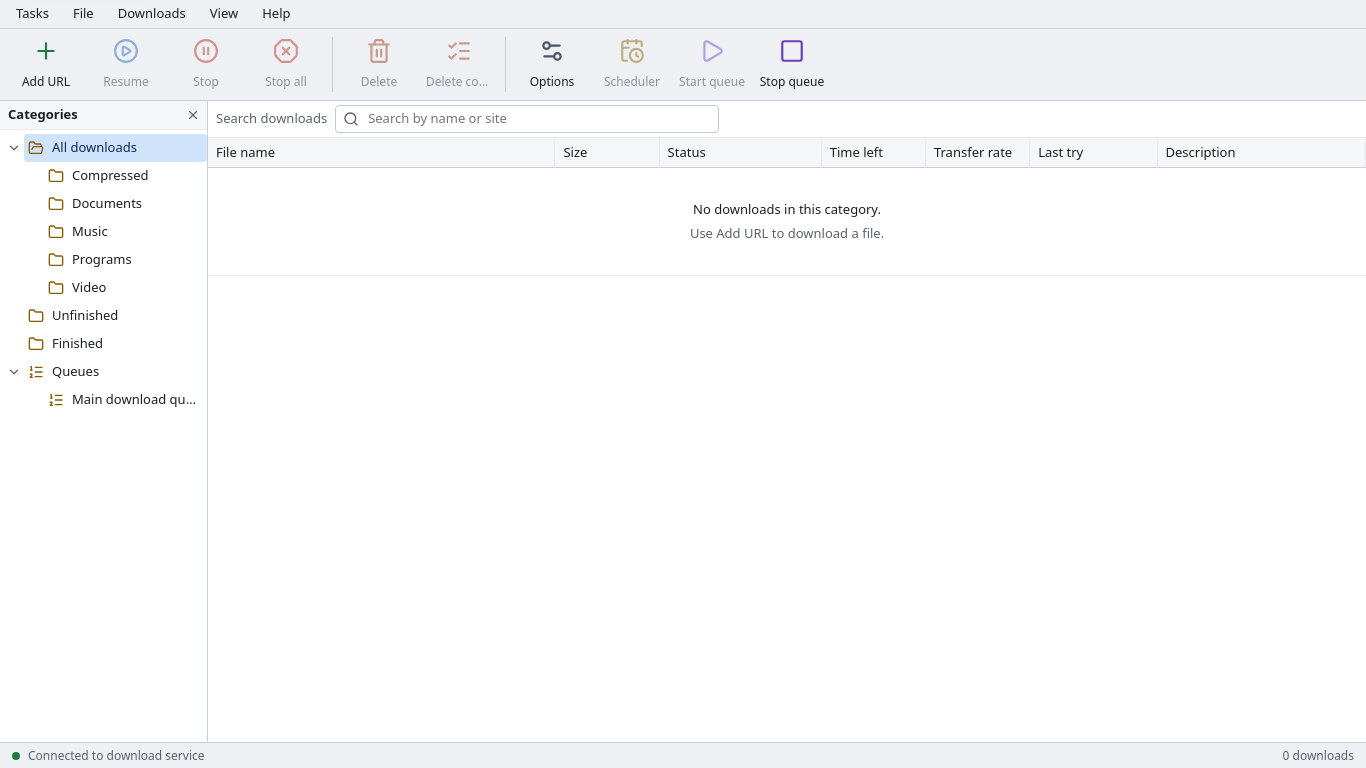
it: close behaviour › shows the desktop setting and persists a change through the shell
Click the button "Options": (552, 64) top-left (514, 33), bottom-right (590, 96)
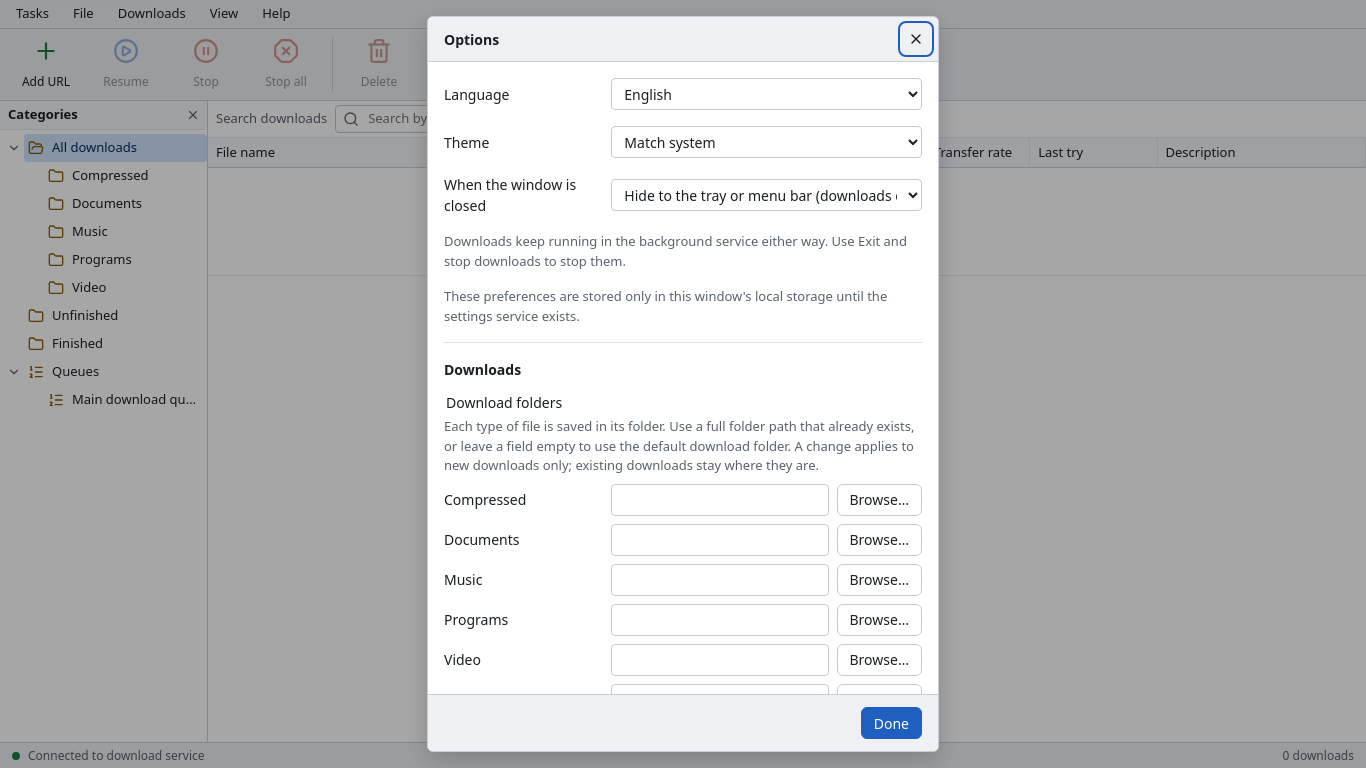
expect the dropdown labelled "When the window is closed" shows "Hide to the tray or menu bar (downloads continue)": met
Select "Close the window (downloads continue)" in the dropdown labelled "When the window is closed": (767, 195) top-left (611, 179), bottom-right (922, 211)
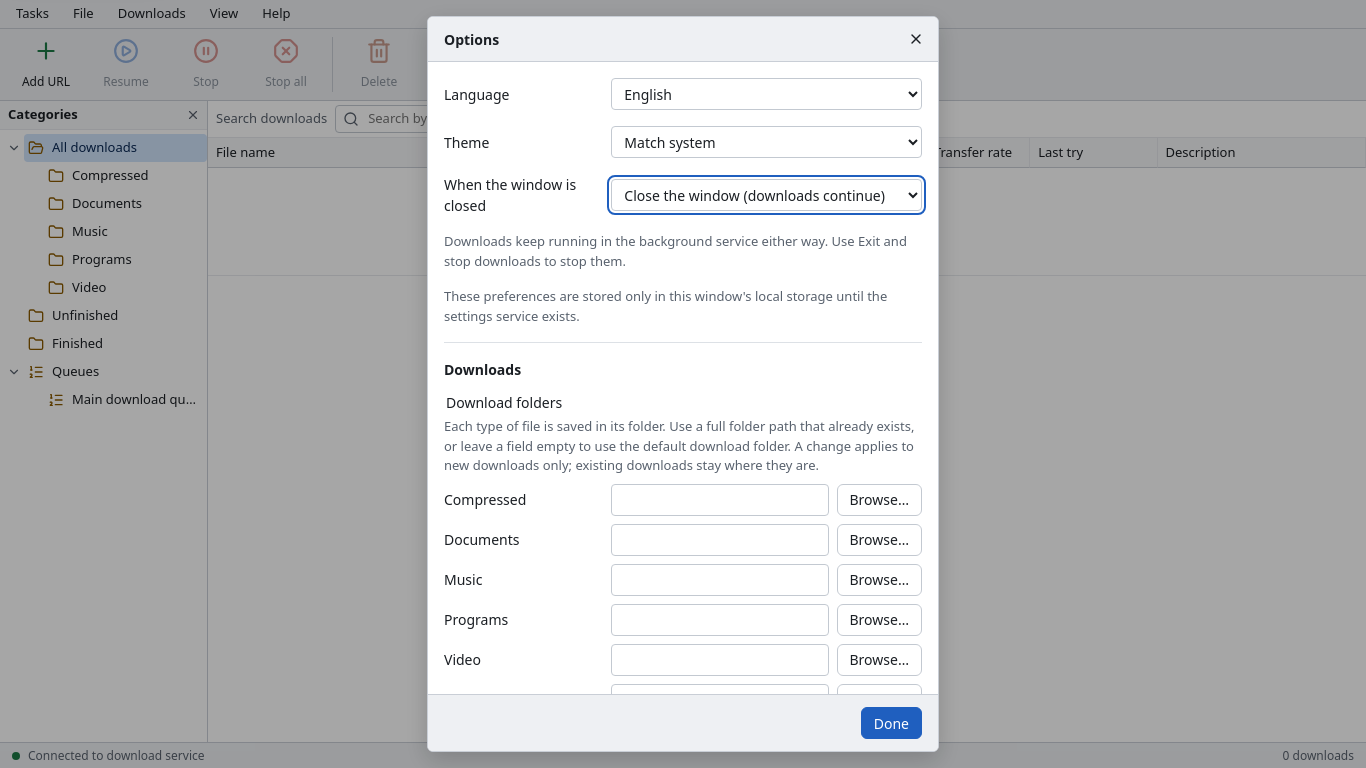
Press Escape
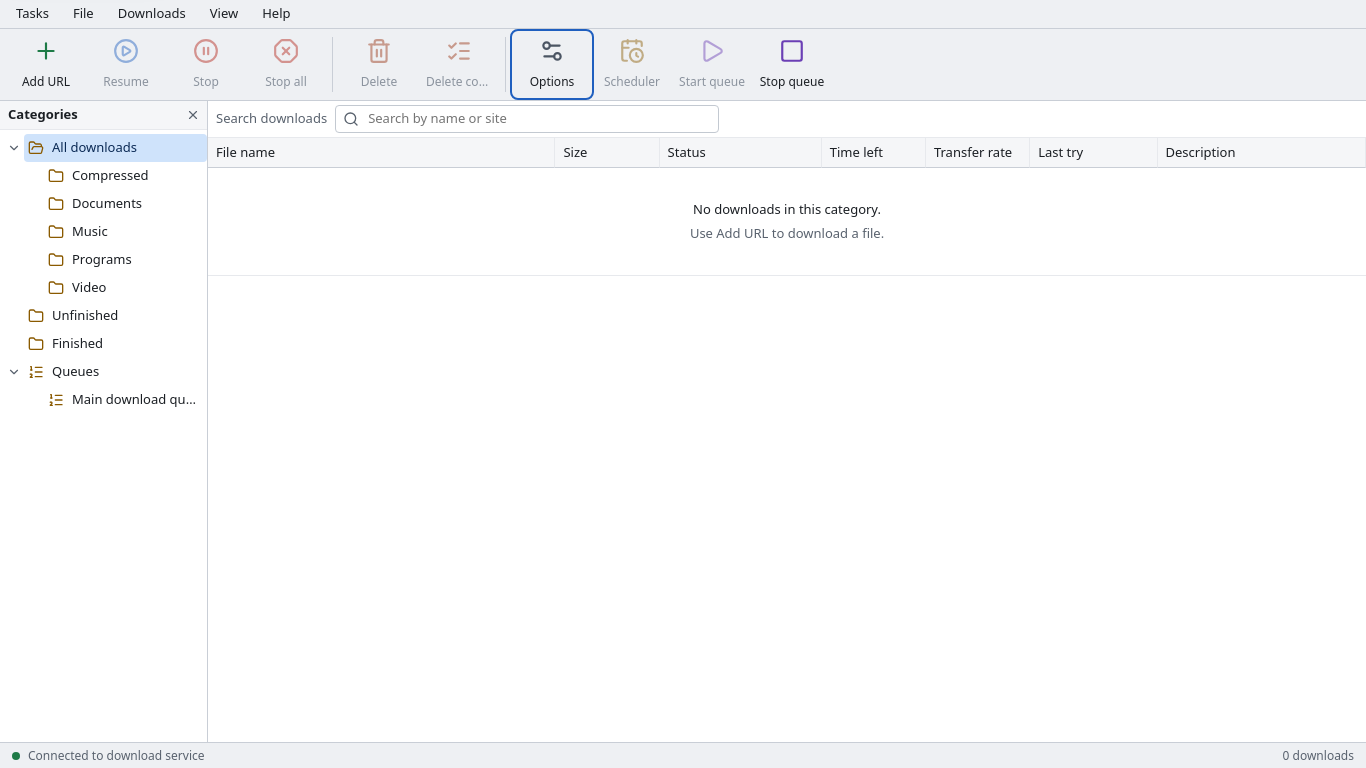
// Reopening reads the saved value back from the shell.
Click the button "Options": (552, 64) top-left (514, 33), bottom-right (590, 96)
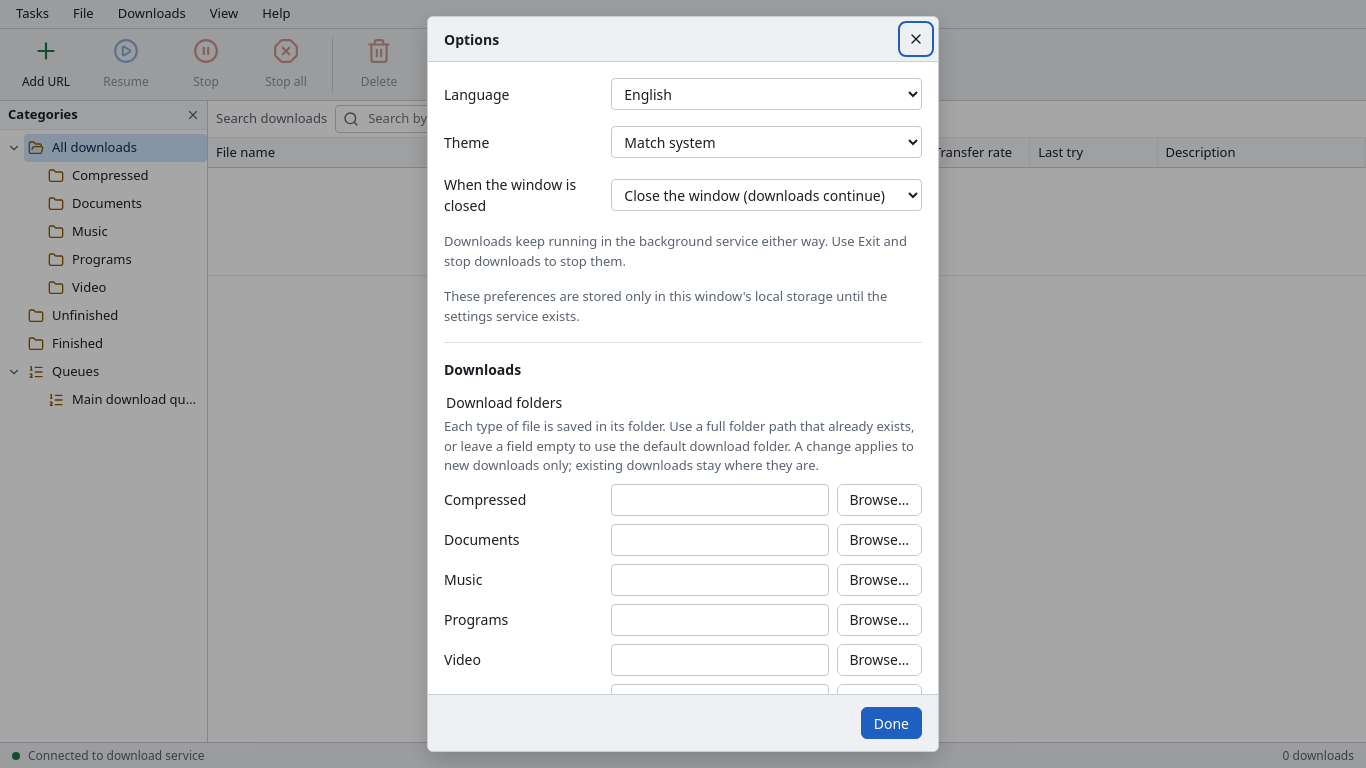
expect the dropdown labelled "When the window is closed" shows "Close the window (downloads continue)": met, box top-left (611, 179), bottom-right (922, 211)
